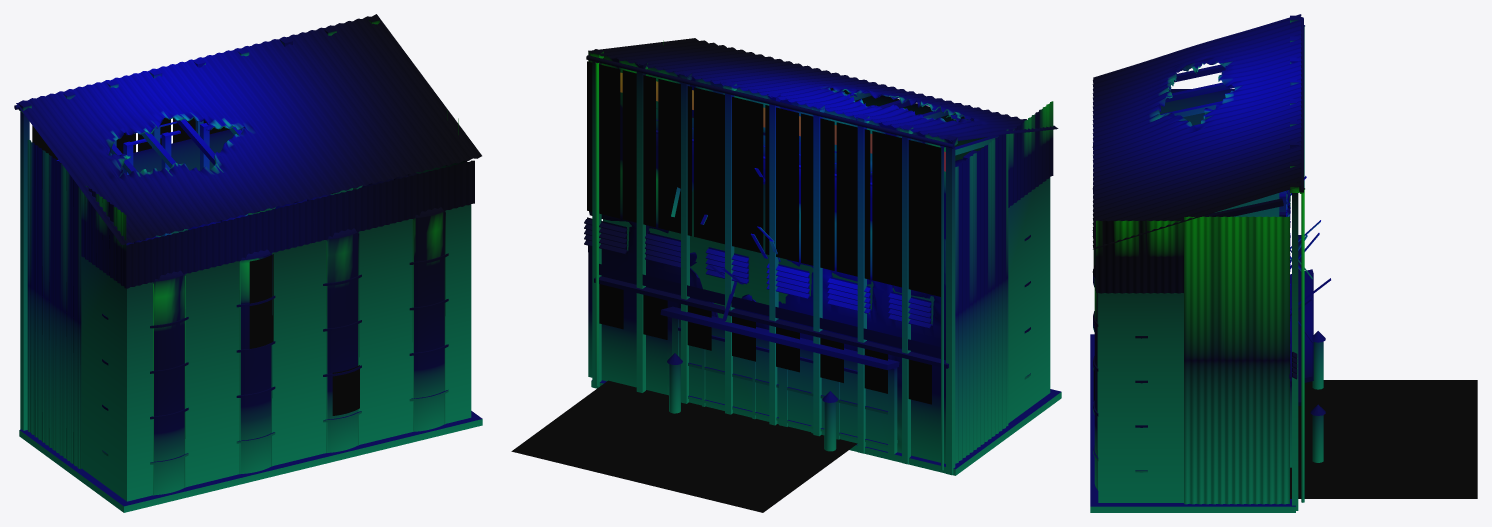
The model's file is grainstorage_damaged.glb.
The picture shows the model from 3 angles, left to right: view 1: azimuth 30°, elevation 25°; view 2: azimuth 150°, elevation 25°; view 3: azimuth 270°, elevation 25°; orthographic projection. The views are drawn at different scales.
Parts seen in each view (by area): view 1: lod0; view 2: lod0; view 3: lod0.
Part boxes in pixels (<box>): lod0: <box>14,14,482,512</box>; lod0: <box>511,38,1061,512</box>; lod0: <box>1090,14,1477,512</box>.
Size of what is drawn, in the model's own units: 17.72 by 15.38 by 16.51.
